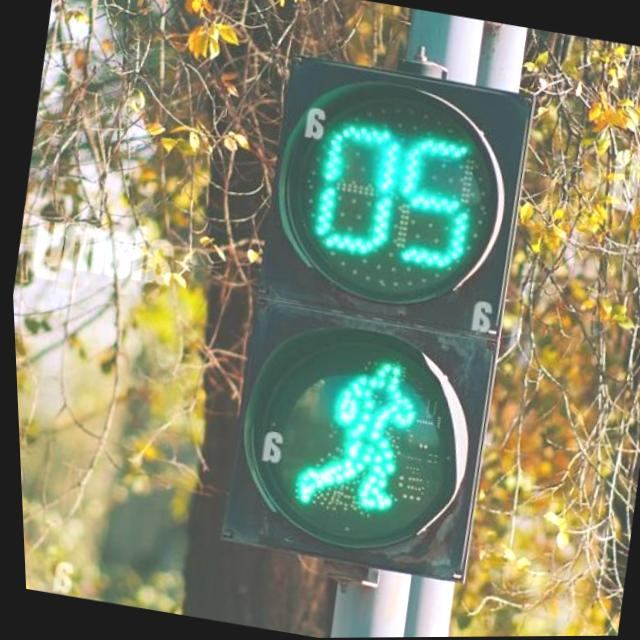green_light: (277, 337, 445, 533)
